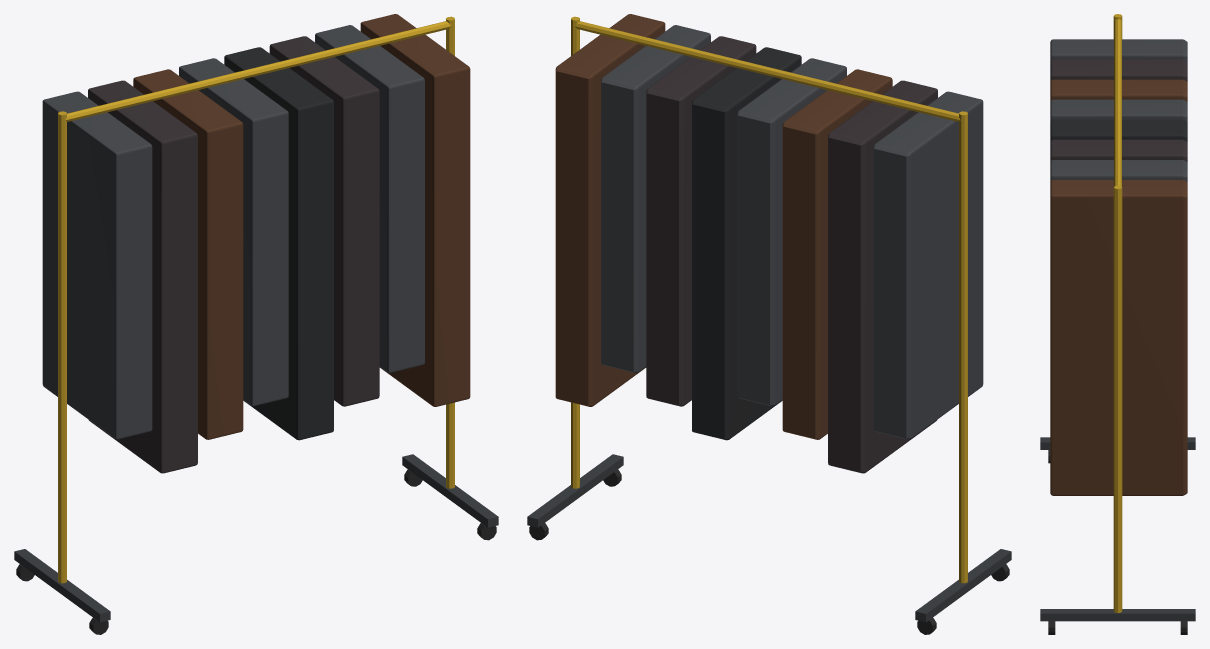
File: prop_coat_rail.glb
The picture shows the model from 3 angles, left to right: view 1: azimuth 30°, elevation 25°; view 2: azimuth 150°, elevation 25°; view 3: azimuth 270°, elevation 25°; orthographic projection. The views are drawn at different scales.
Parts seen in each view (by area): view 1: Rail; view 2: Rail; view 3: Rail.
Boxes of the visible parts, <box> form: Rail: <box>14,14,498,634</box>; Rail: <box>527,14,1011,634</box>; Rail: <box>1040,14,1195,634</box>.
Size of what is drawn, in the model's own units: 1.5 by 1.75 by 0.55.
